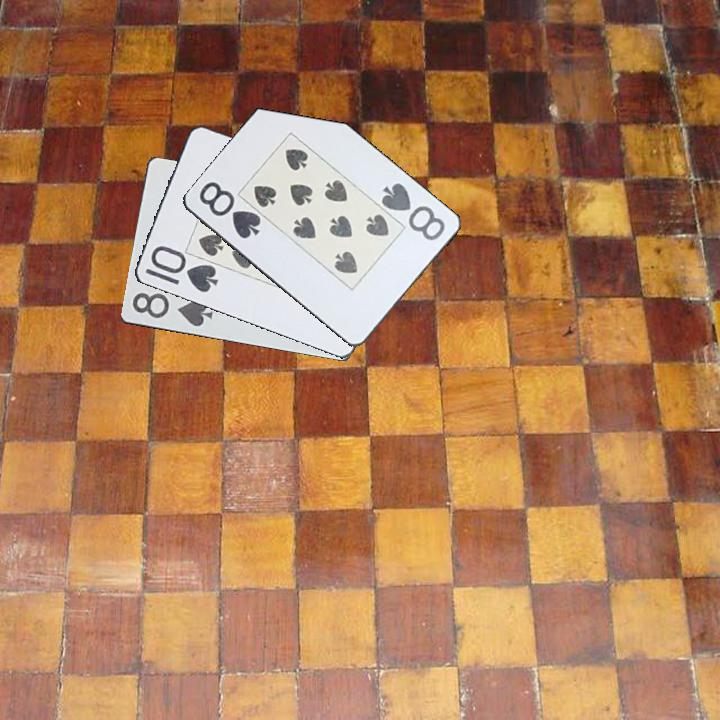8s: (377, 179, 448, 244), (195, 178, 264, 242), (128, 289, 215, 330)
Ts: (141, 243, 221, 296)
